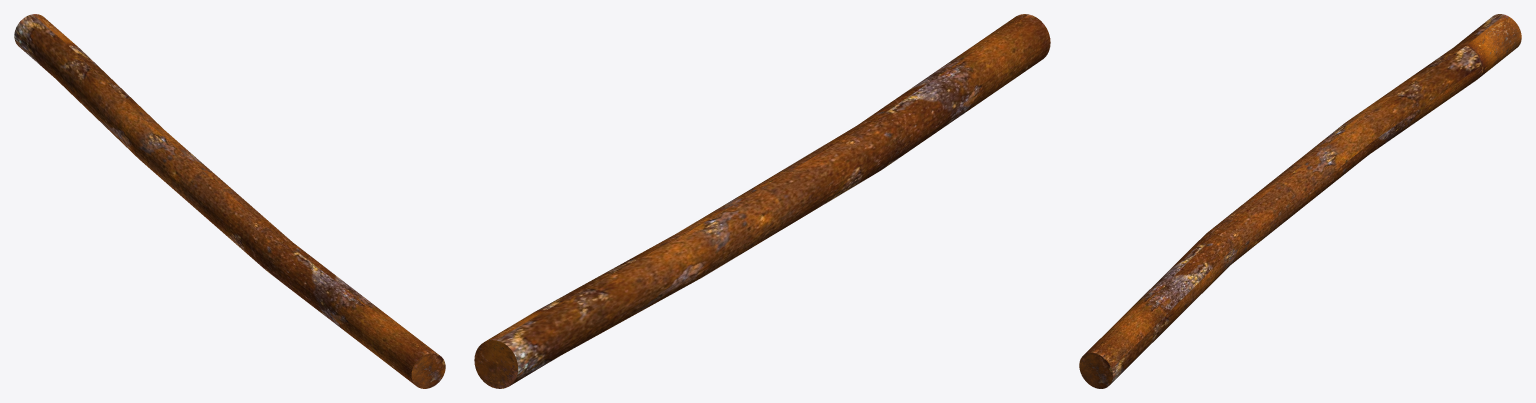
The model's file is FierroRoca4.fbx.
3 renders of one model, left to right at view 1: azimuth 30°, elevation 25°; view 2: azimuth 150°, elevation 25°; view 3: azimuth 330°, elevation 25°, orthographic. The views are drawn at different scales.
Visible parts, largest first — view 1: Cylinder.011; view 2: Cylinder.011; view 3: Cylinder.011.
Part boxes in pixels (x1,y1,x2,y2): Cylinder.011: [14, 14, 445, 388]; Cylinder.011: [474, 14, 1050, 388]; Cylinder.011: [1079, 14, 1521, 388].
Size of the model in its own units: 60.63 by 88.73 by 814.
